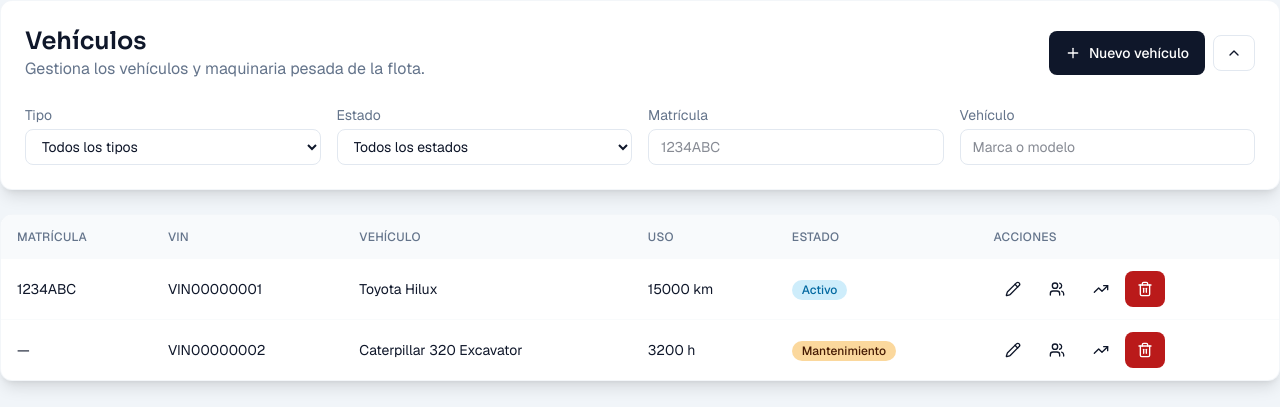
Test: Vehicles › narrows the vehicle list with the status filter
Check: the text "Toyota Hilux" is shown, box [343,259,632,320]
Step 1. Select "Mantenimiento" in the dropdown named "filtrar por estado" → (484, 147), box [336,129,632,165]
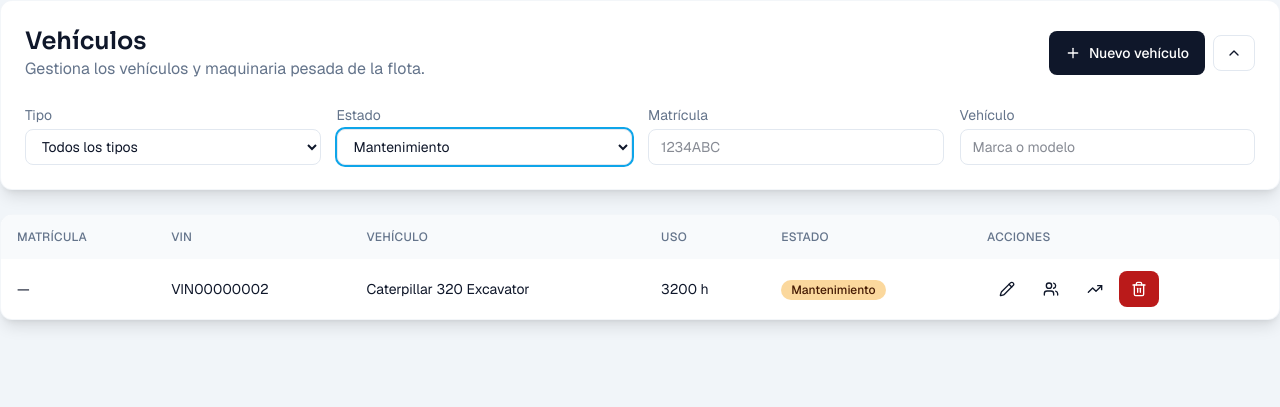
Check: the text "Toyota Hilux" is gone
